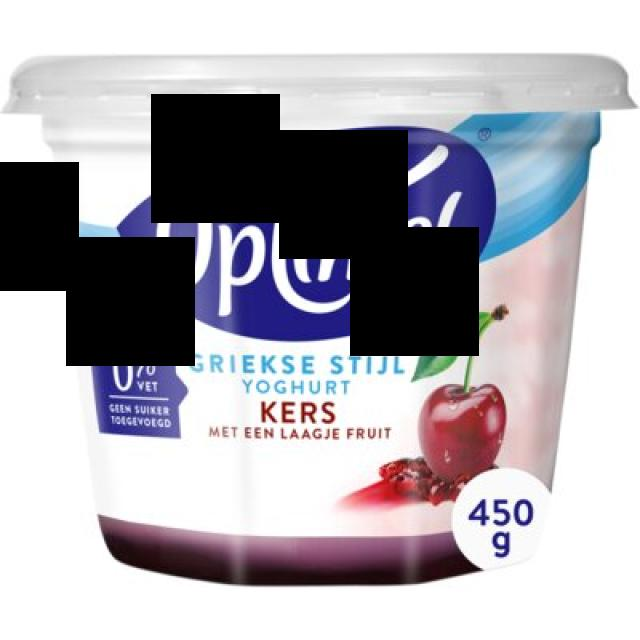yoghurt: (0, 50, 639, 587)
